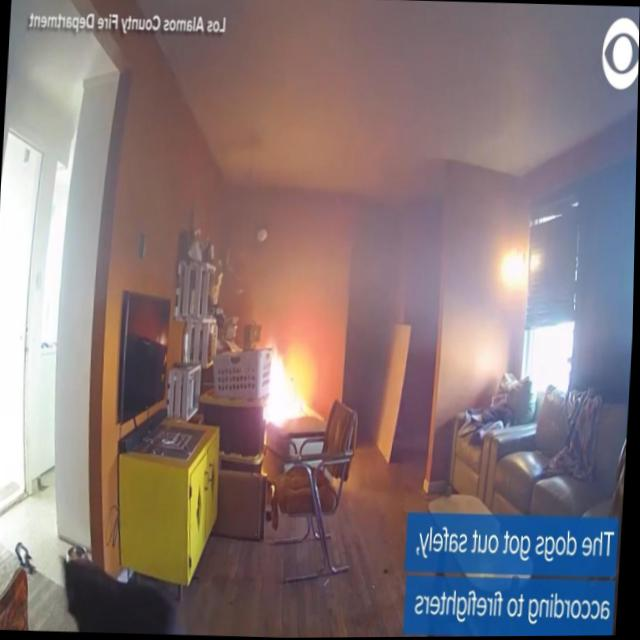fire: (262, 348, 315, 429)
